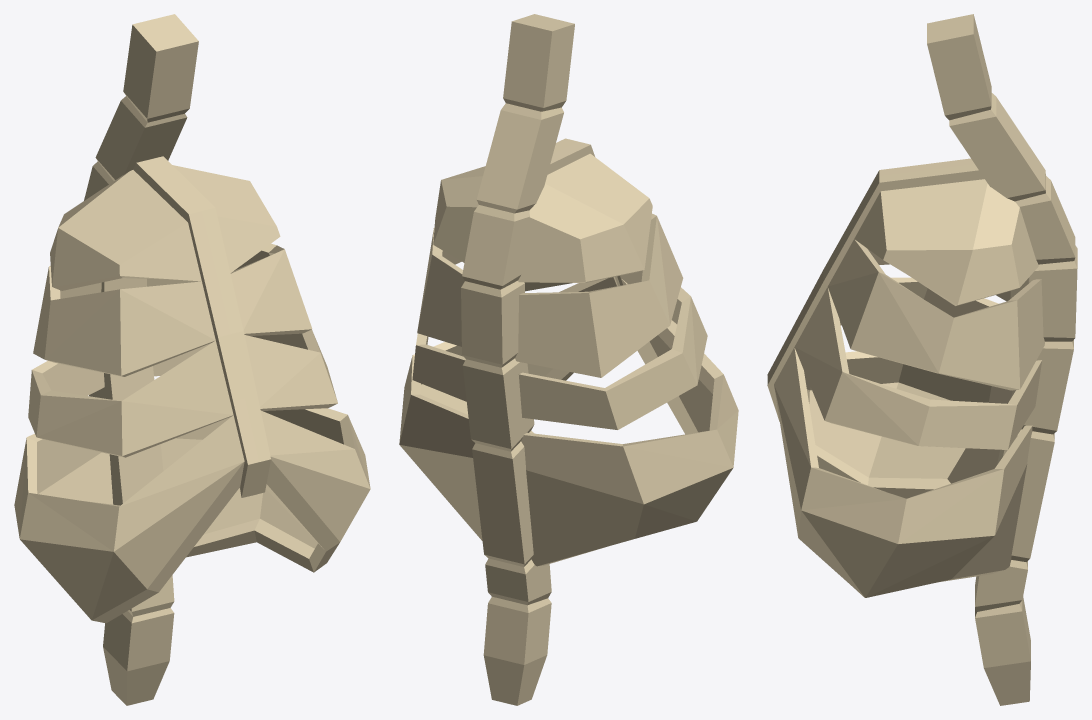
Rendered from Spine and ripcage.fbx.
3 views of the same model, side by side, from view 1: azimuth 30°, elevation 25°; view 2: azimuth 150°, elevation 25°; view 3: azimuth 270°, elevation 25° (orthographic). The views are drawn at different scales.
Parts seen in each view (by area): view 1: Cube; view 2: Cube; view 3: Cube.
Part boxes in pixels (left/top/right/bottom): Cube: left=14, top=14, right=370, bottom=705; Cube: left=399, top=14, right=738, bottom=705; Cube: left=767, top=14, right=1077, bottom=705.
Size of the model in its own units: 35.67 by 68.39 by 28.45.
